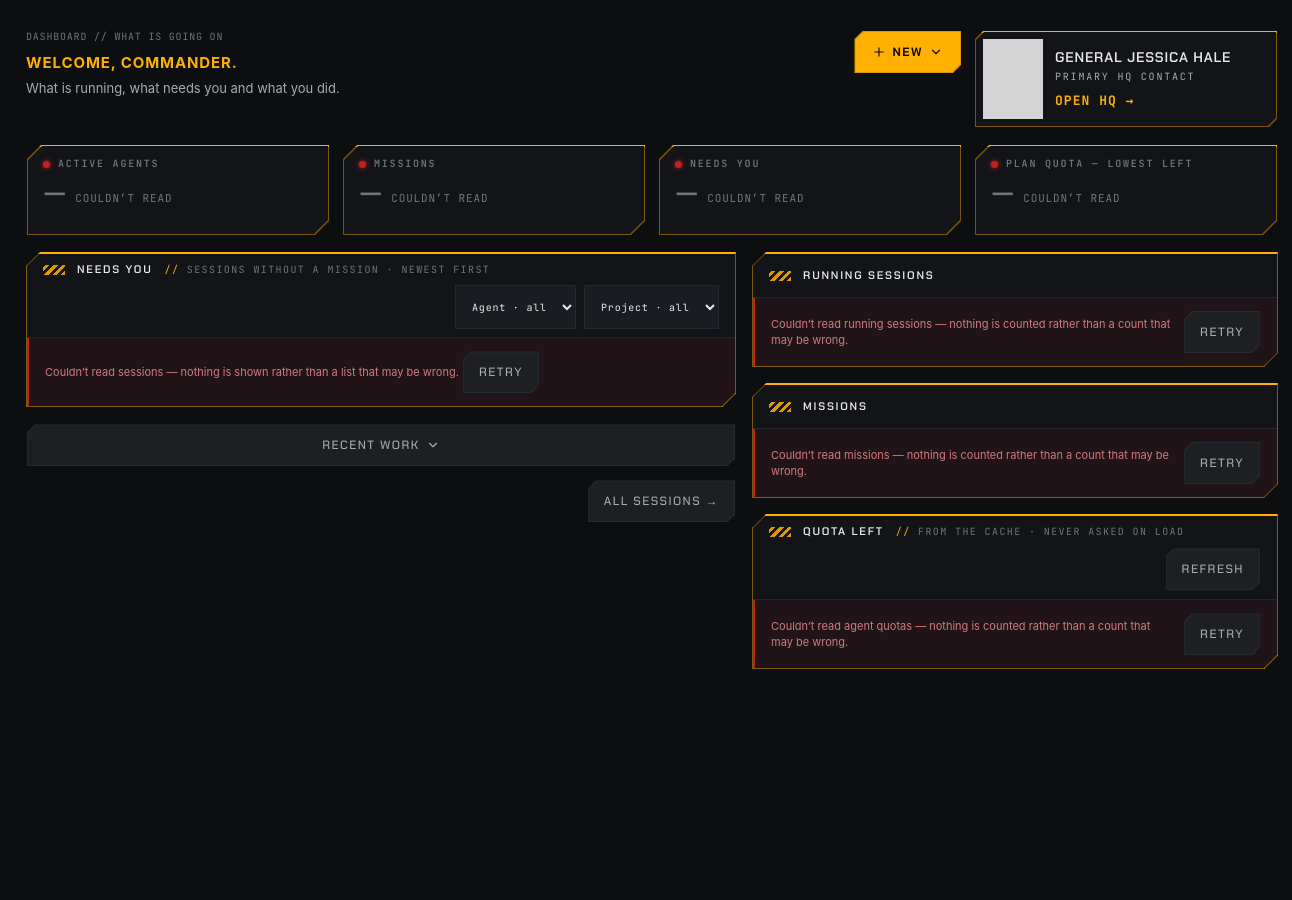
New → New project opens the wizard, keyed to come back here (#1187)
Click the button "New" at [908, 52], box [854,30,962,74]
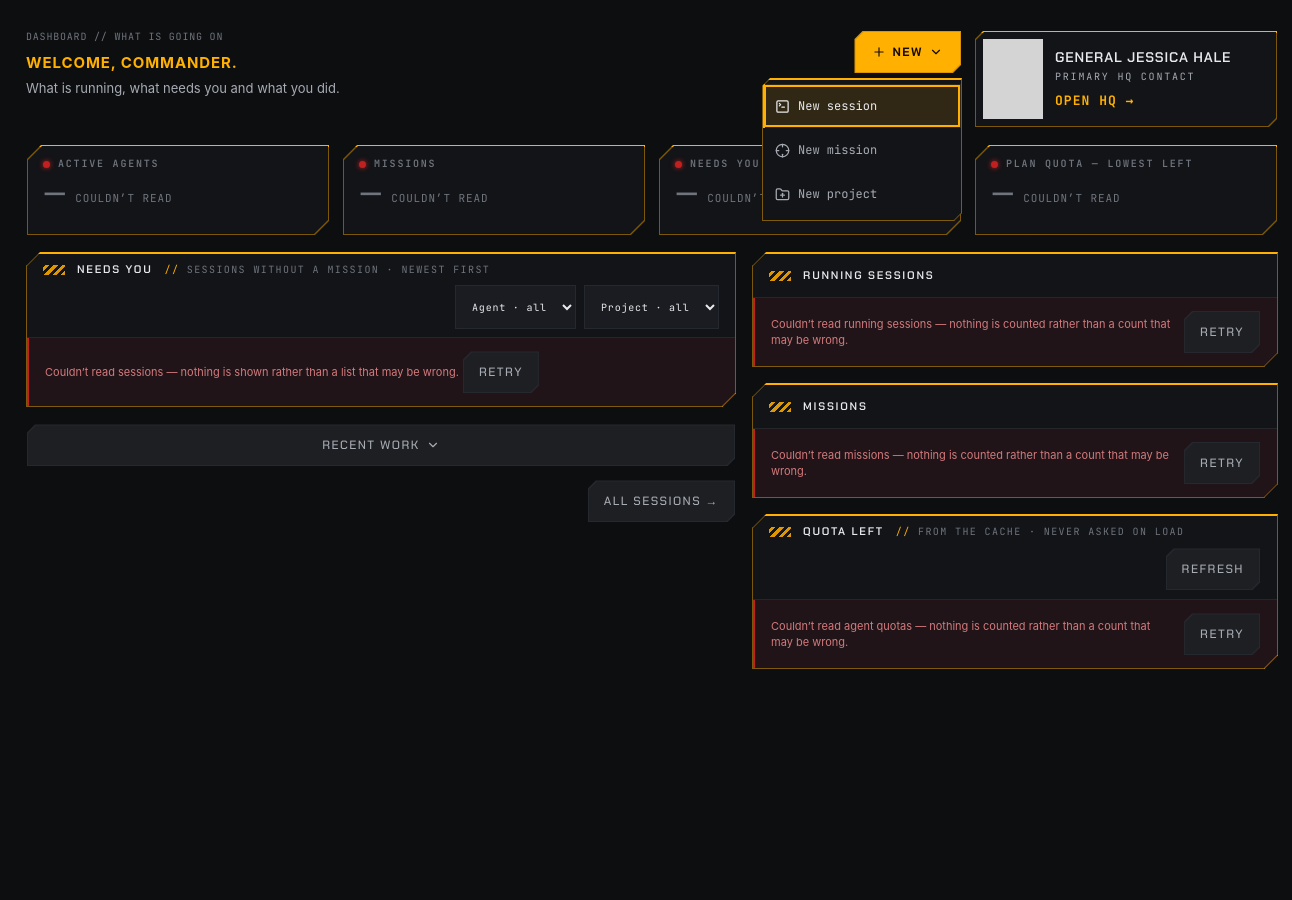
Click the menu item "New project" at [826, 194], box [775,186,877,202]
(page scrolled)
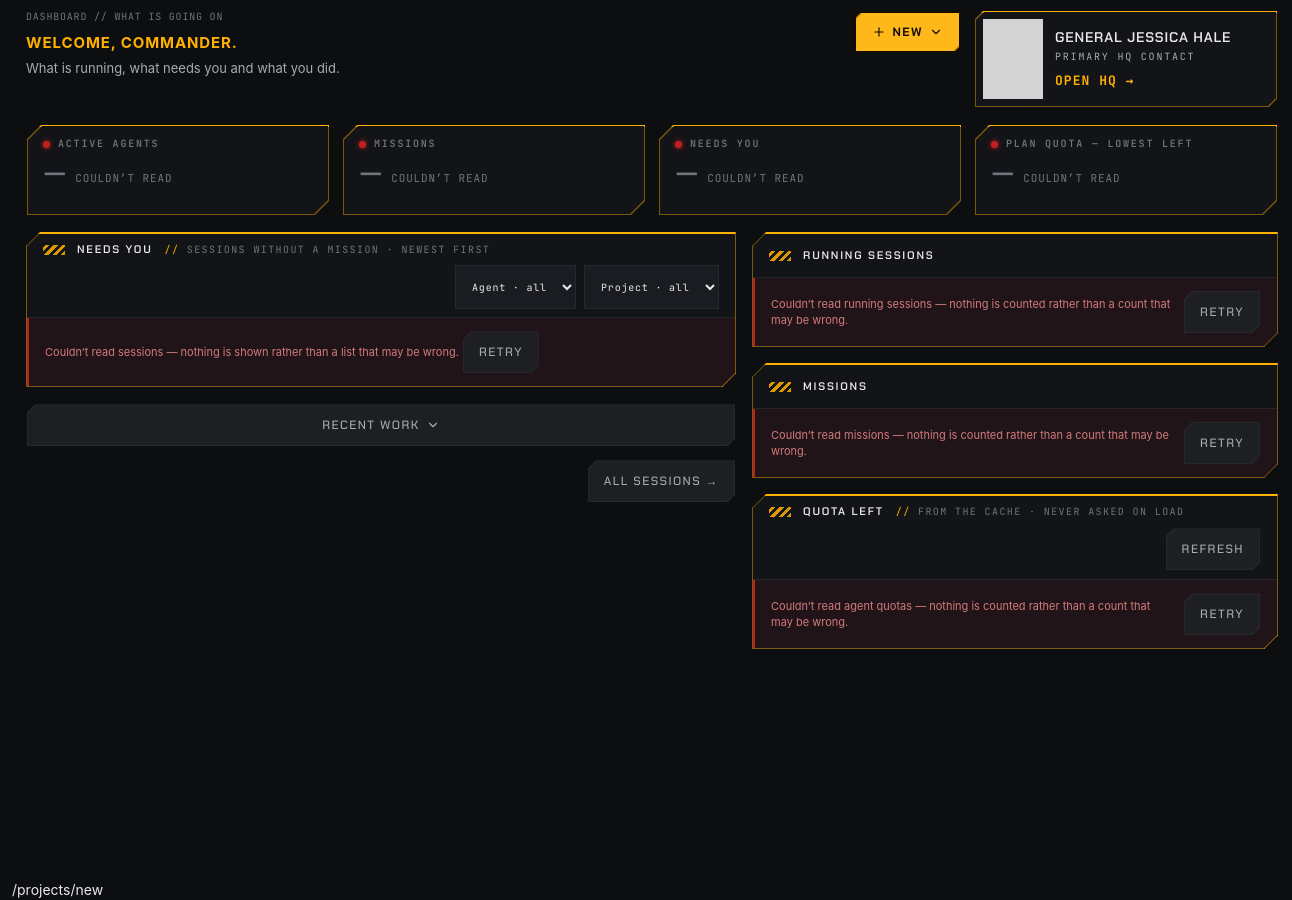
Expected: the text with test id "where" reads "/projects/new", [12,881,103,898]
Expected: the menu is gone
